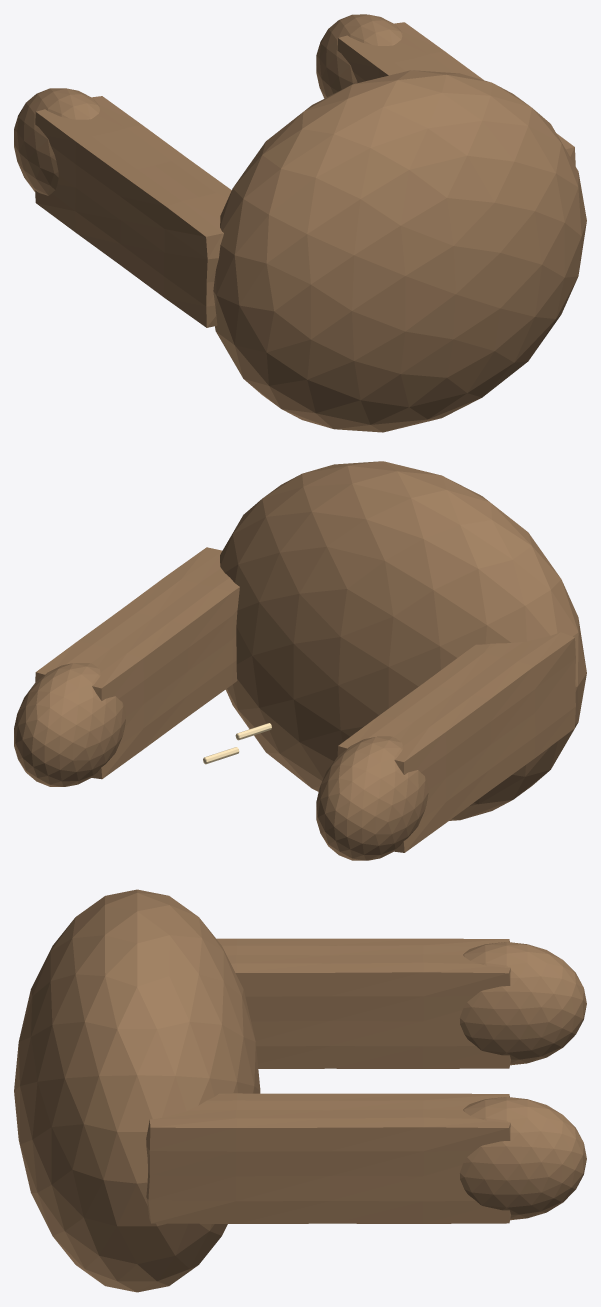
File: pelo-largo.glb
3 renders of one model, top to bottom at view 1: azimuth 30°, elevation 25°; view 2: azimuth 150°, elevation 25°; view 3: azimuth 270°, elevation 25°, orthographic. The views are drawn at different scales.
Visible parts, largest first — view 1: pelo-largo_00, pelo-largo_01, pelo-largo_02, pelo-largo_03, pelo-largo_04; view 2: pelo-largo_00, pelo-largo_01, pelo-largo_03, pelo-largo_02, pelo-largo_04; view 3: pelo-largo_00, pelo-largo_03, pelo-largo_01, pelo-largo_02, pelo-largo_04.
Part boxes in pixels (x1,y1,x2,y2): pelo-largo_00: (213,70,586,432); pelo-largo_01: (35,96,231,327); pelo-largo_02: (14,88,100,195); pelo-largo_03: (337,22,575,165); pelo-largo_04: (316,14,402,98); pelo-largo_00: (220,461,586,820); pelo-largo_01: (337,632,575,852); pelo-largo_03: (35,547,239,779); pelo-largo_02: (316,736,428,860); pelo-largo_04: (14,663,125,786); pelo-largo_00: (14,889,260,1292); pelo-largo_03: (146,1093,510,1223); pelo-largo_01: (216,938,510,1068); pelo-largo_02: (460,942,586,1065); pelo-largo_04: (460,1097,586,1220).
Bounding box in the file's own units: 0.7177 × 0.6074 × 0.8777.
